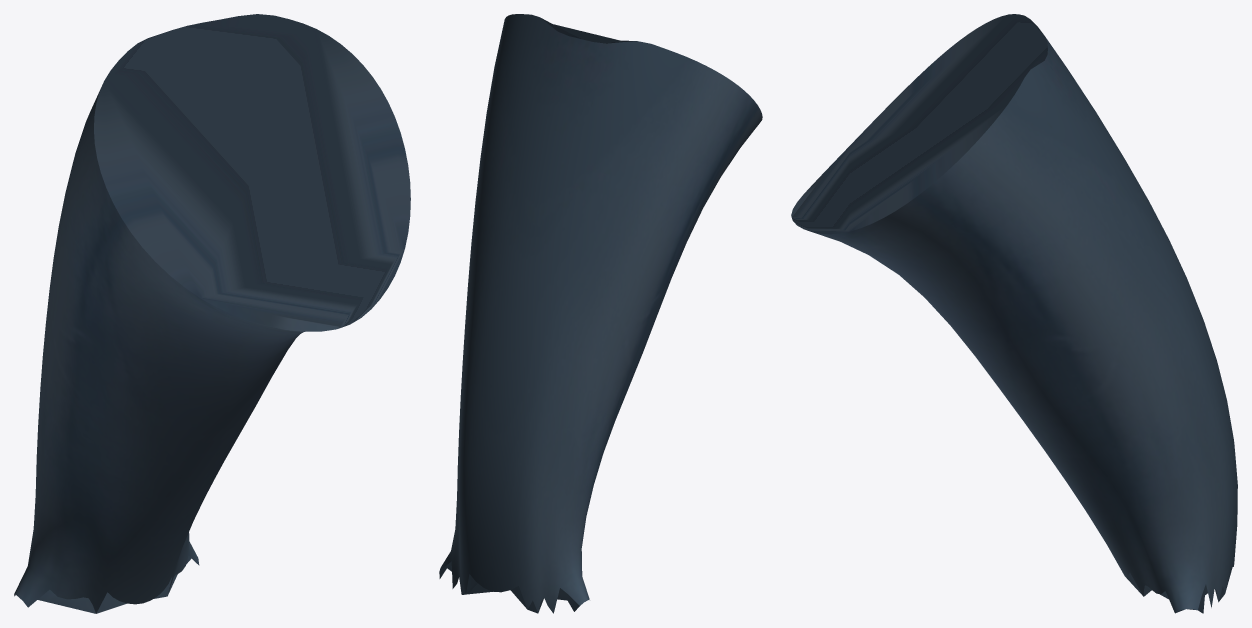
Rendered from CuerpoTraDelfin.obj.
The picture shows the model from 3 angles, left to right: view 1: azimuth 30°, elevation 25°; view 2: azimuth 150°, elevation 25°; view 3: azimuth 270°, elevation 25°; orthographic projection. The views are drawn at different scales.
Visible parts, largest first — view 1: CuerpoTra; view 2: CuerpoTra; view 3: CuerpoTra.
Part boxes in pixels (bbox=[...]): CuerpoTra: bbox=[14, 14, 410, 613]; CuerpoTra: bbox=[439, 14, 762, 613]; CuerpoTra: bbox=[791, 14, 1237, 613].
Bounding box in the file's own units: 3.21 × 6.64 × 4.99.
1 material, 1 textured.
